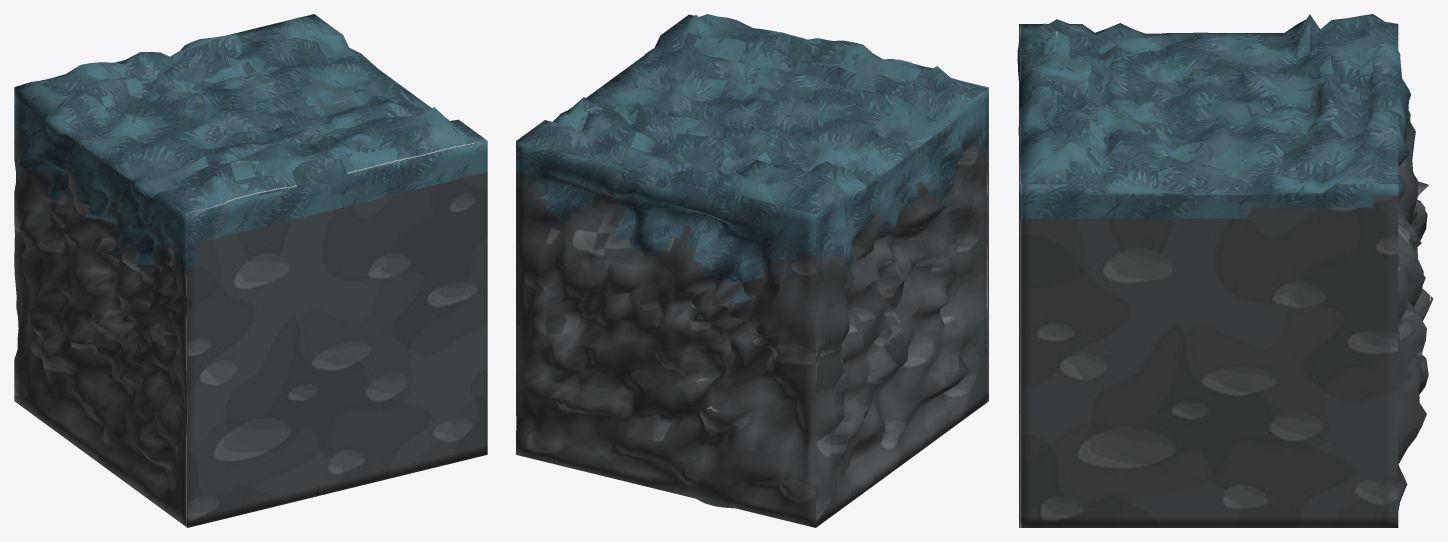
Rendered from ground coté bleu.fbx.
3 views of the same model, side by side, from view 1: azimuth 30°, elevation 25°; view 2: azimuth 150°, elevation 25°; view 3: azimuth 270°, elevation 25° (orthographic). The views are drawn at different scales.
Visible parts, largest first — view 1: Box001; view 2: Box001; view 3: Box001.
Boxes of the visible parts, <box> form: Box001: <box>14,14,487,527</box>; Box001: <box>516,14,988,527</box>; Box001: <box>1017,14,1433,527</box>.
Size of the model in its own units: 41.62 by 42.64 by 43.19.
